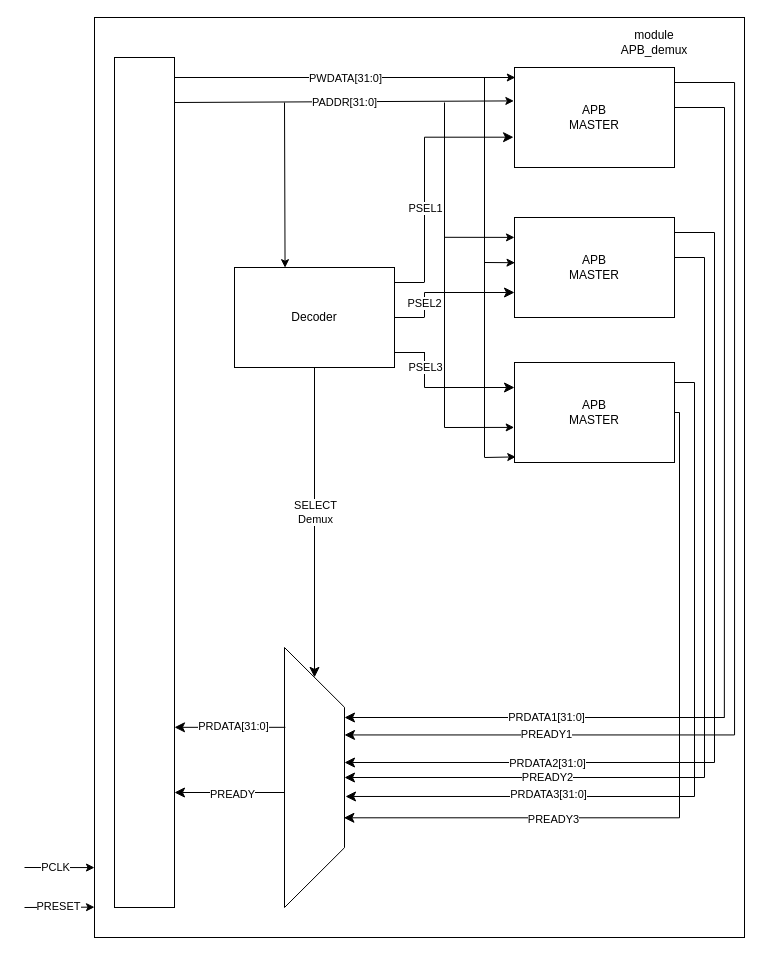
This 763x955 diagram has some shape labels left out. The shapes that lost their labels are listed below. From the top down, each one's box as (x1, y1, x2, y2) in pixels, then its label:
(114, 56, 174, 908): APB SLAVE
(284, 646, 344, 908): Demux
